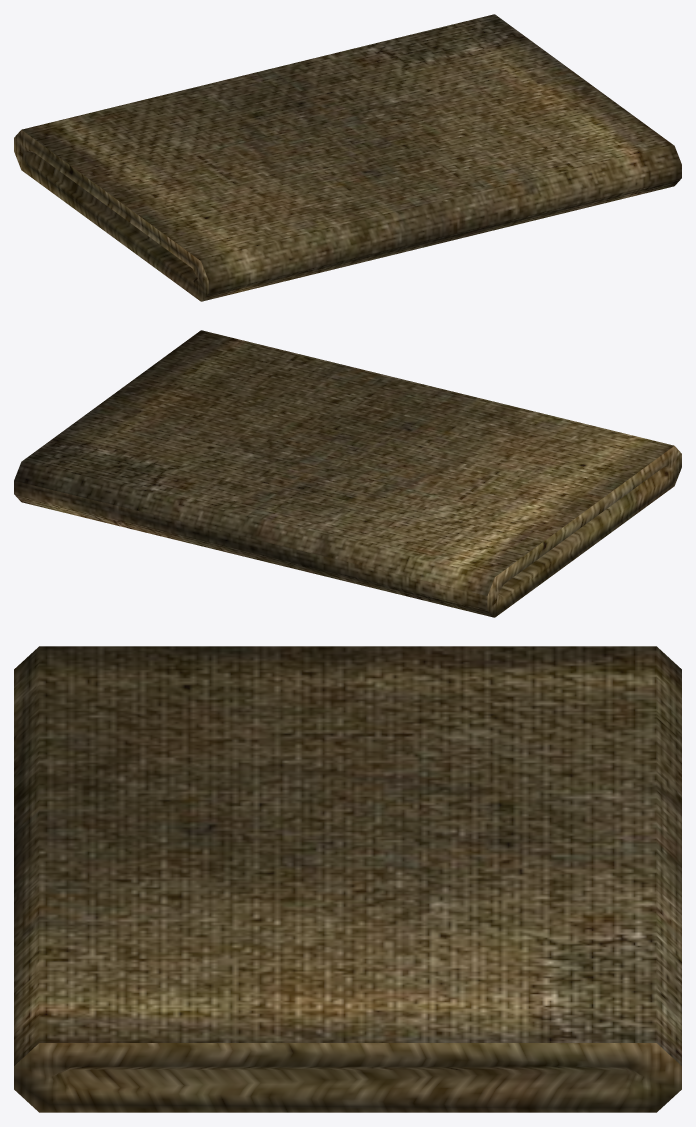
The model's file is KM_VOB_MERCHANT_FABRIC_01.glb.
3 renders of one model, top to bottom at view 1: azimuth 30°, elevation 25°; view 2: azimuth 150°, elevation 25°; view 3: azimuth 270°, elevation 25°, orthographic. The views are drawn at different scales.
Parts seen in each view (by area): view 1: Mesh; view 2: Mesh; view 3: Mesh.
Boxes of the visible parts, left/top/right/bottom form: Mesh: left=14, top=14, right=681, bottom=301; Mesh: left=14, top=330, right=681, bottom=617; Mesh: left=14, top=646, right=681, bottom=1112.
Size of the model in its own units: 0.6403 by 0.0524 by 0.4556.
1 material, 1 textured.
